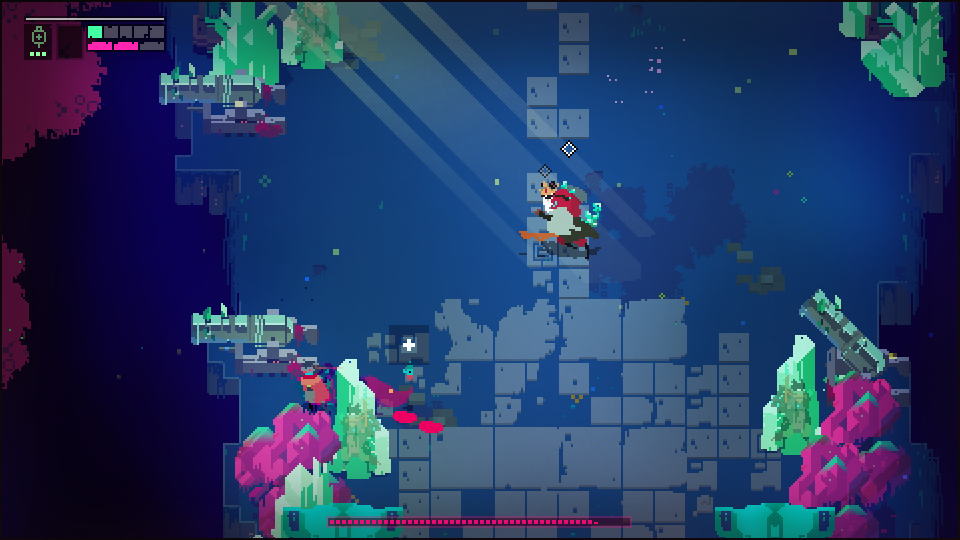hanged_man: (514, 178, 603, 262)
player: (294, 359, 330, 420)
